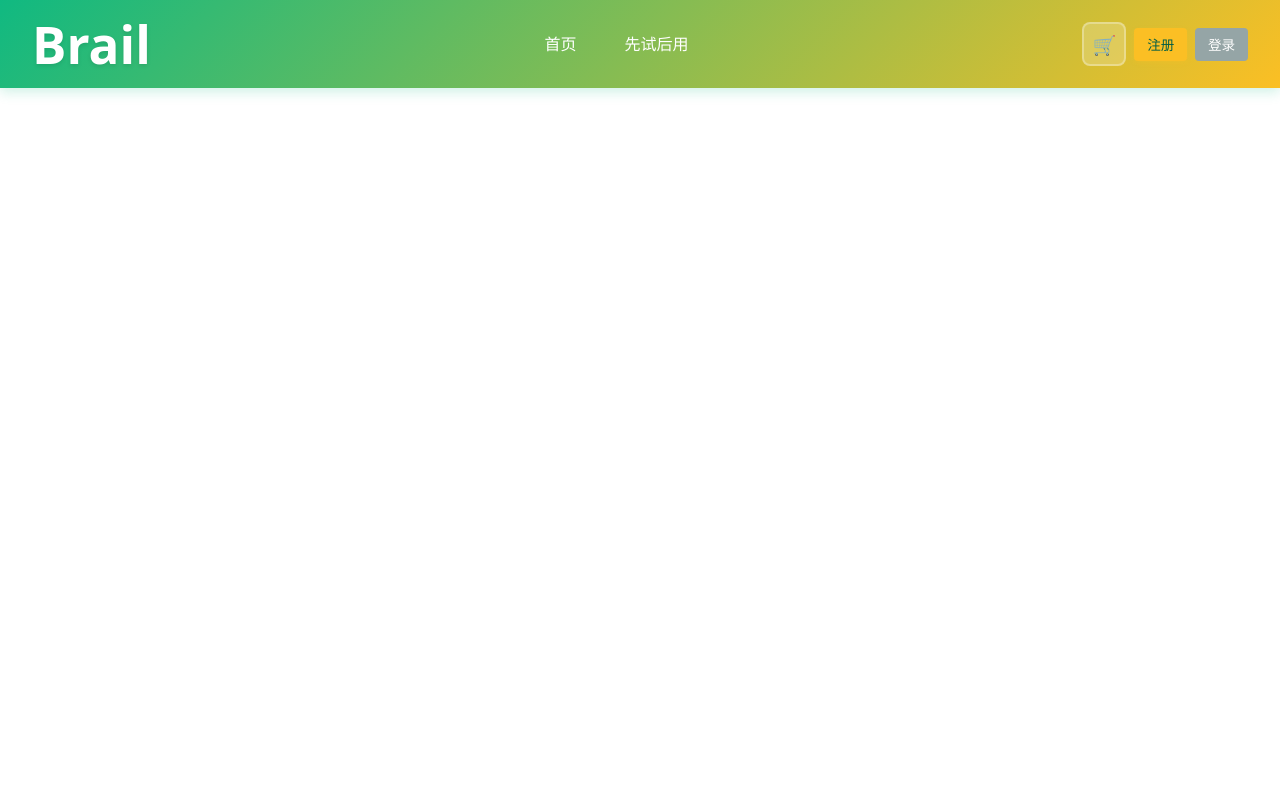
Scenario: Header.vue 注册功能单元测试 › 表单验证测试 › 应该验证CNPJ格式
Click the button "注册" at (1161, 44), box left=1134, top=28, right=1187, bottom=61
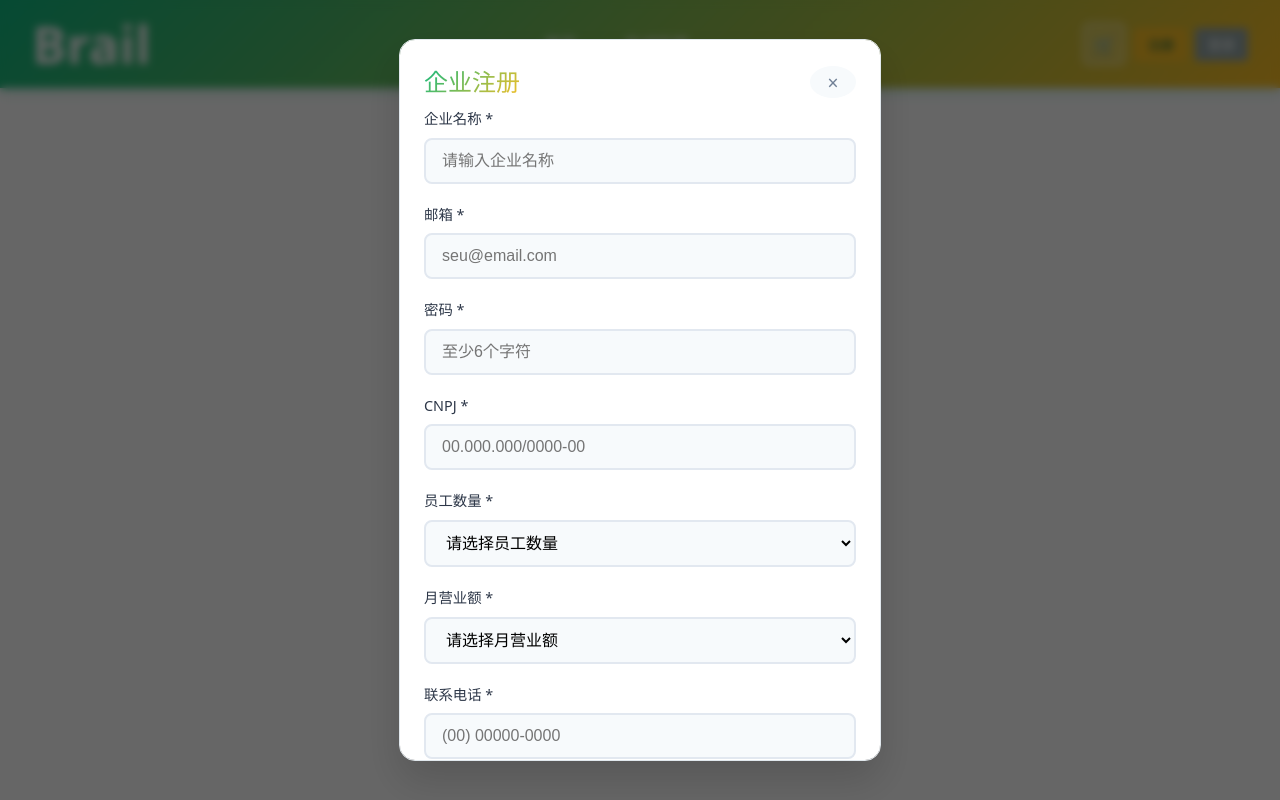
Type "123456789" into the field with id "cnpj" at (640, 447), box left=424, top=424, right=856, bottom=470
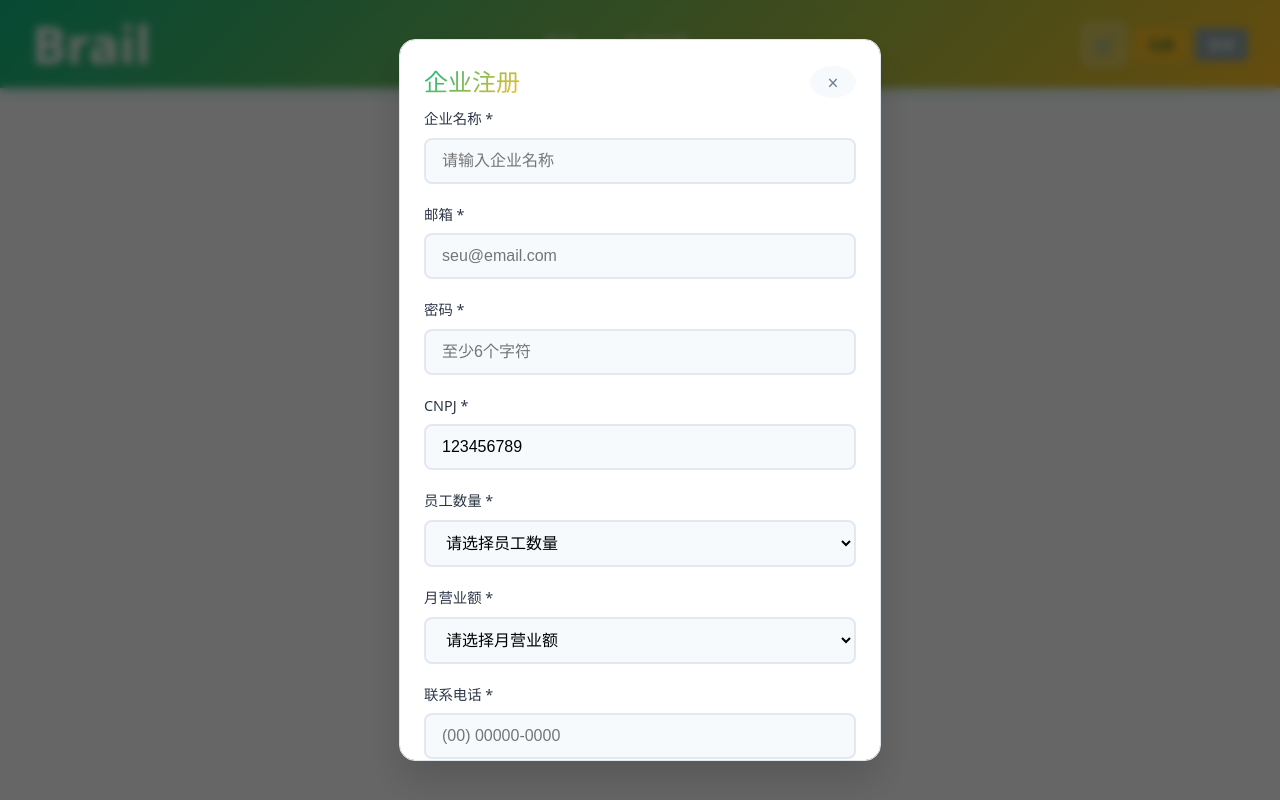
Leave the field with id "cnpj", box left=424, top=424, right=856, bottom=470
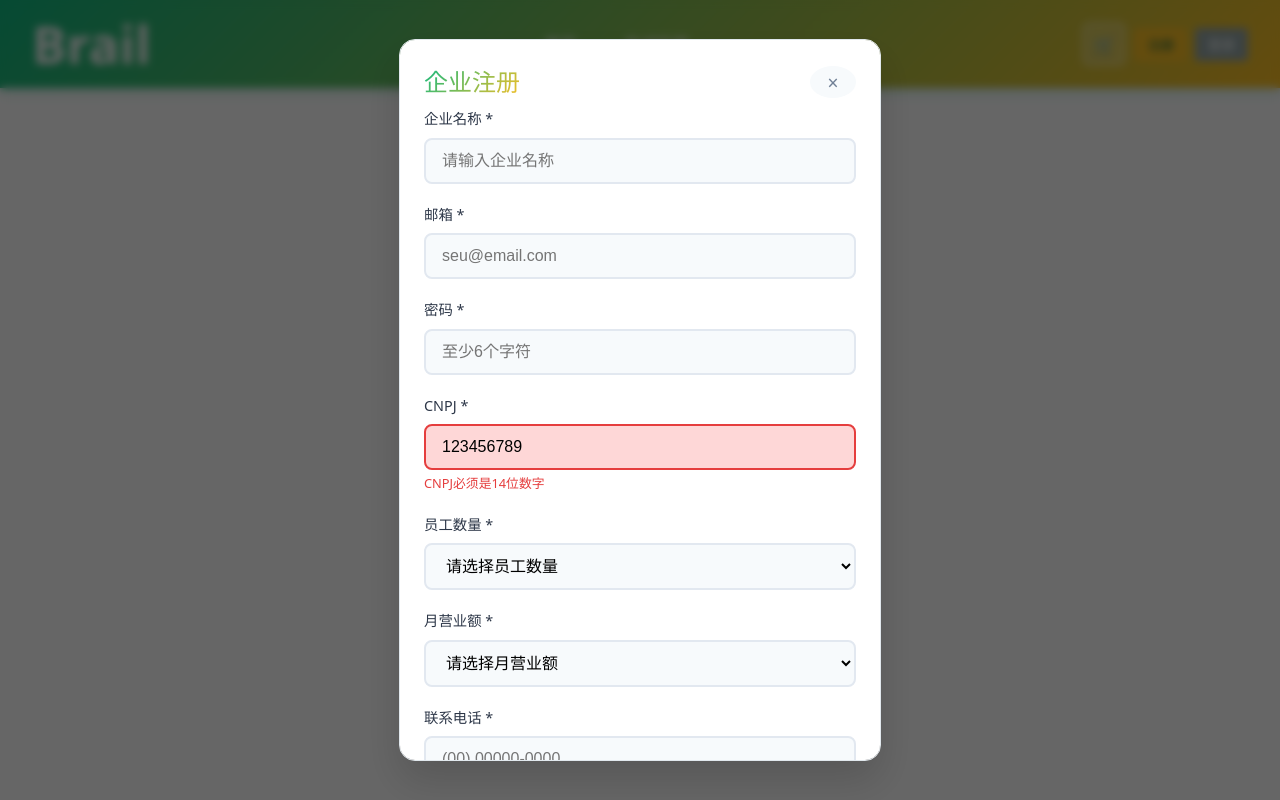
Expected: the text with class "error-message" reads "CNPJ必须是14位数字", left=424, top=474, right=544, bottom=492
